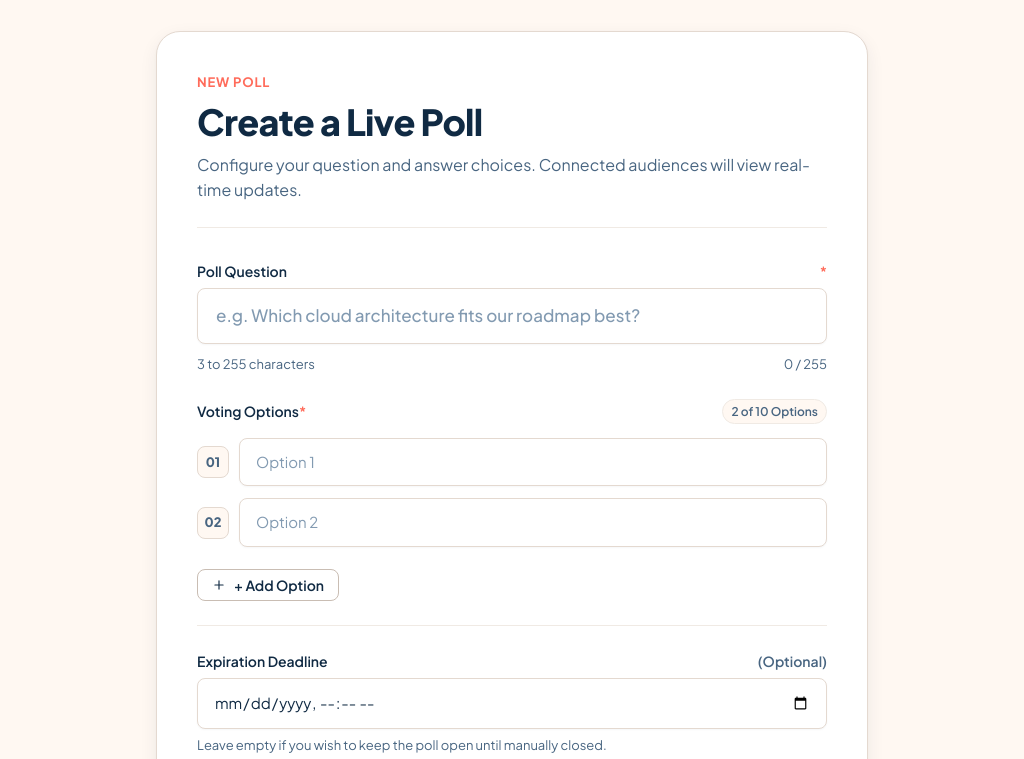
CreatePollPage Validation & Interactions › detects duplicate options case-insensitively
Type "Which language do you prefer?" into the field labelled "Poll Question *" at (512, 316), box x1=197 y1=288 x2=827 y2=344
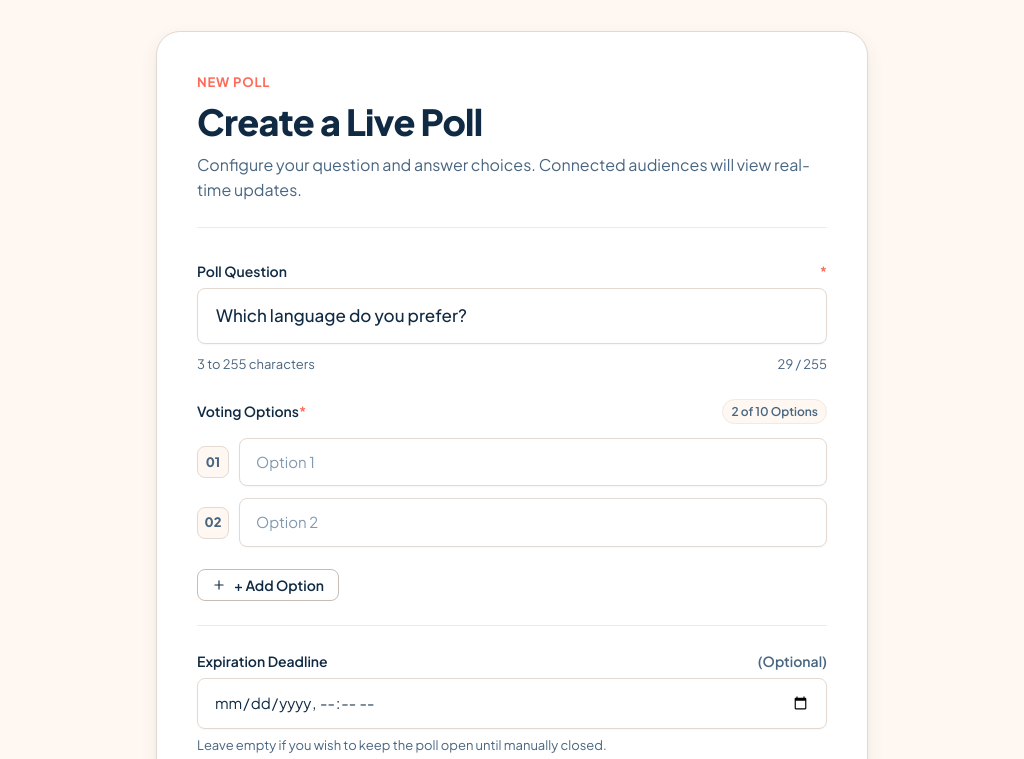
Type "TypeScript" into the field with placeholder "Option 1" at (533, 462), box x1=239 y1=438 x2=827 y2=486
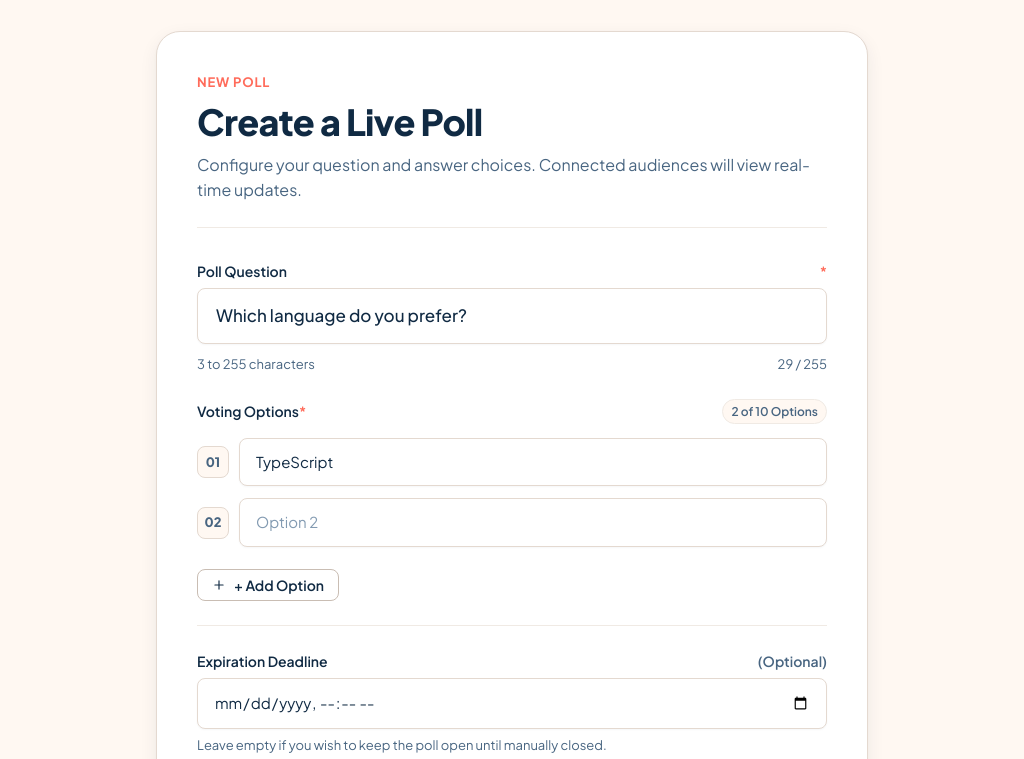
Type "typescript" into the field with placeholder "Option 2" at (533, 523), box x1=239 y1=498 x2=827 y2=547
(page scrolled)
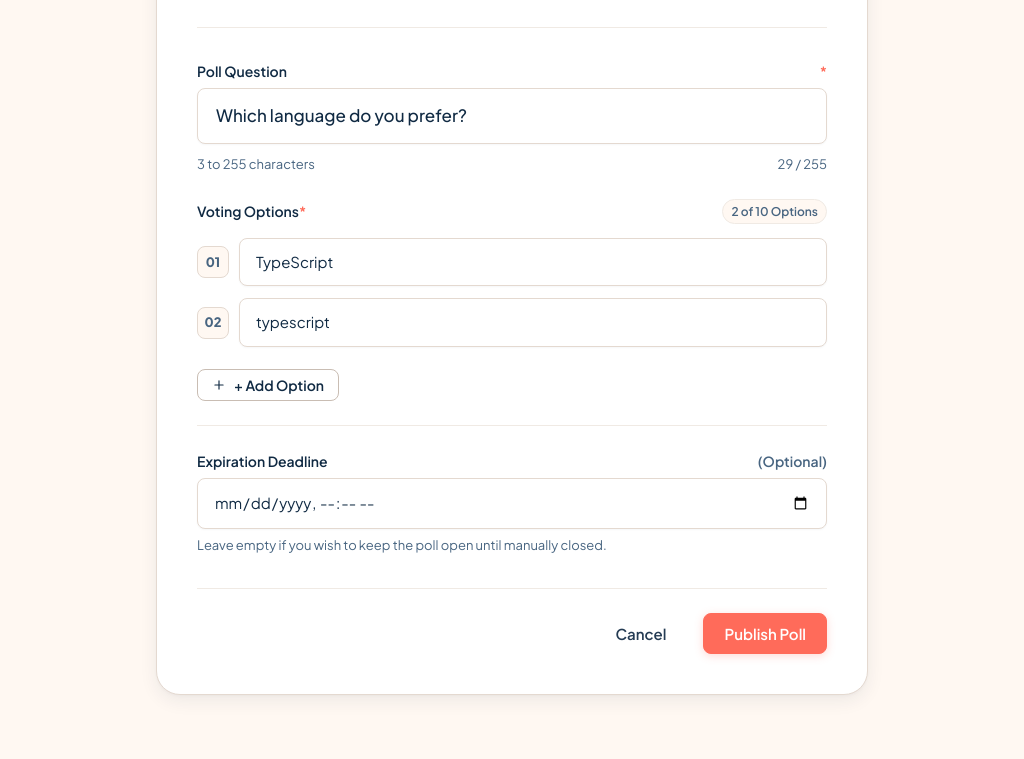
Click the button "Publish Poll" at (765, 633), box x1=704 y1=613 x2=827 y2=654
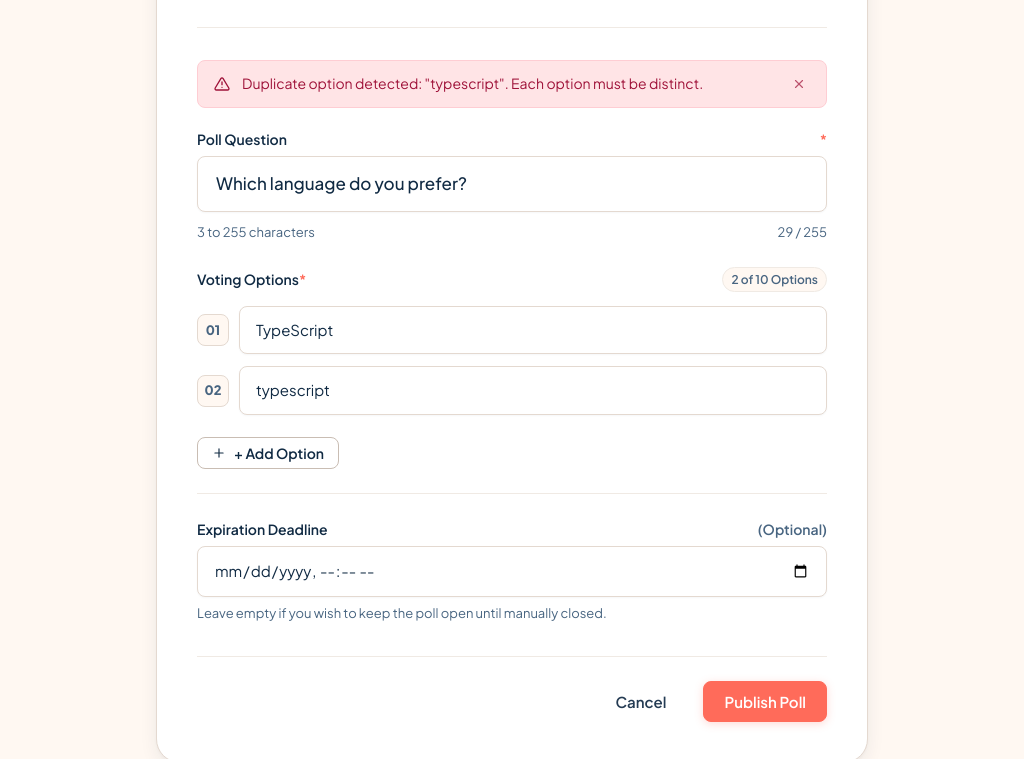
Check: the text "Duplicate option detected" is shown, box x1=242 y1=74 x2=703 y2=92
